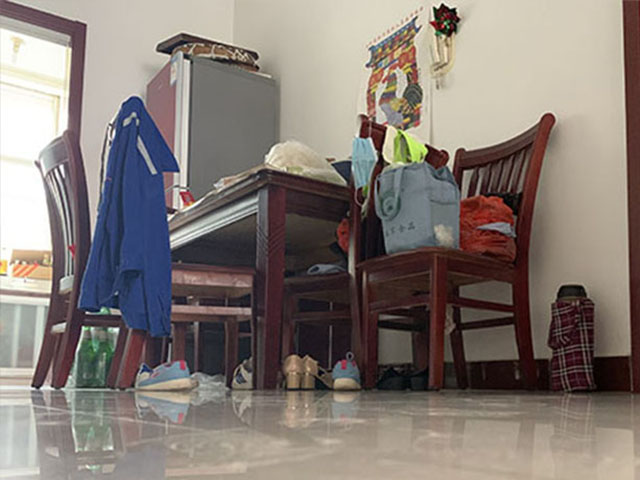stool: (31, 122, 264, 391), (352, 110, 558, 392)
table: (163, 165, 390, 393)
